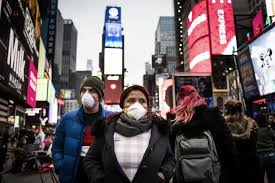mask: (75, 67, 107, 119), (118, 82, 151, 121)
